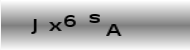6: (62, 14, 77, 28)
A: (104, 22, 123, 37)
J: (30, 17, 39, 36)
s: (87, 13, 102, 25)
x: (48, 20, 63, 33)
